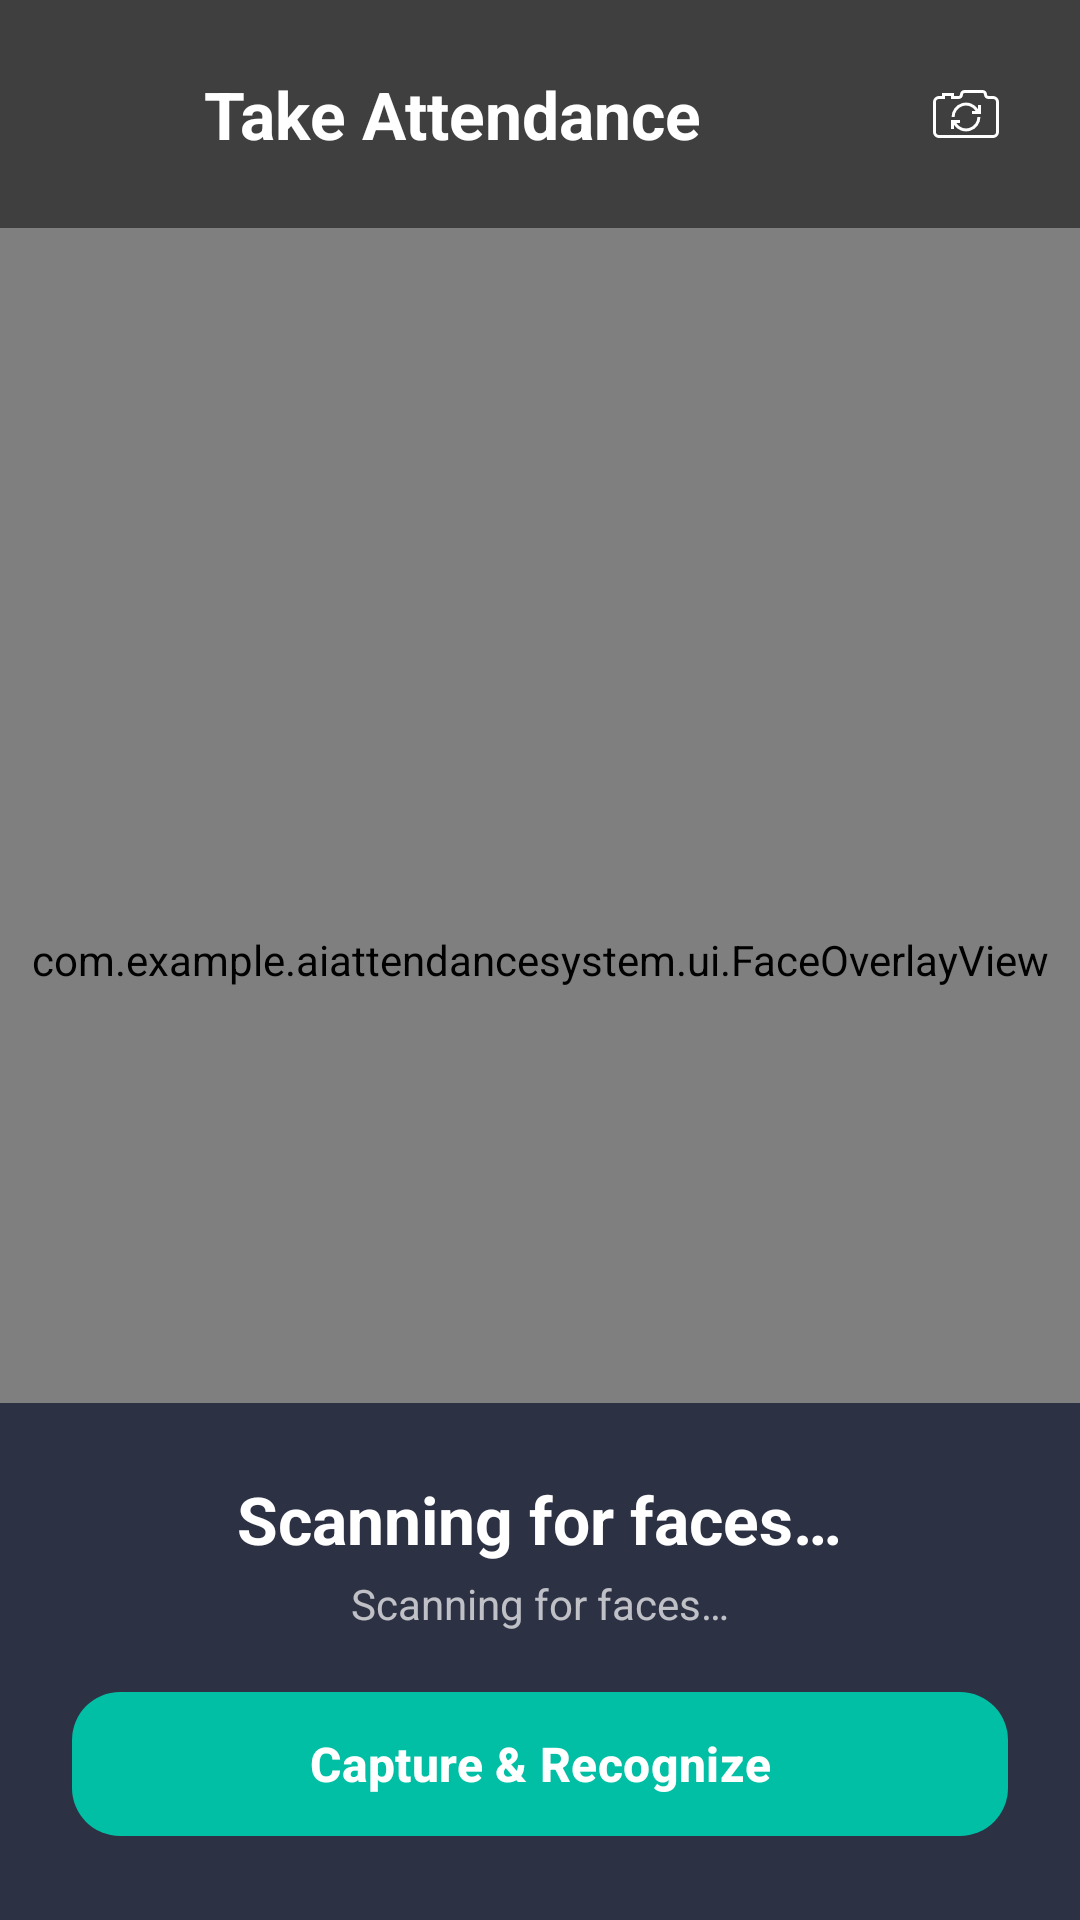

Named icons in this screenshot (1080px×1920px) and their centers, [x,y]:
Switch Camera: [966,114]
